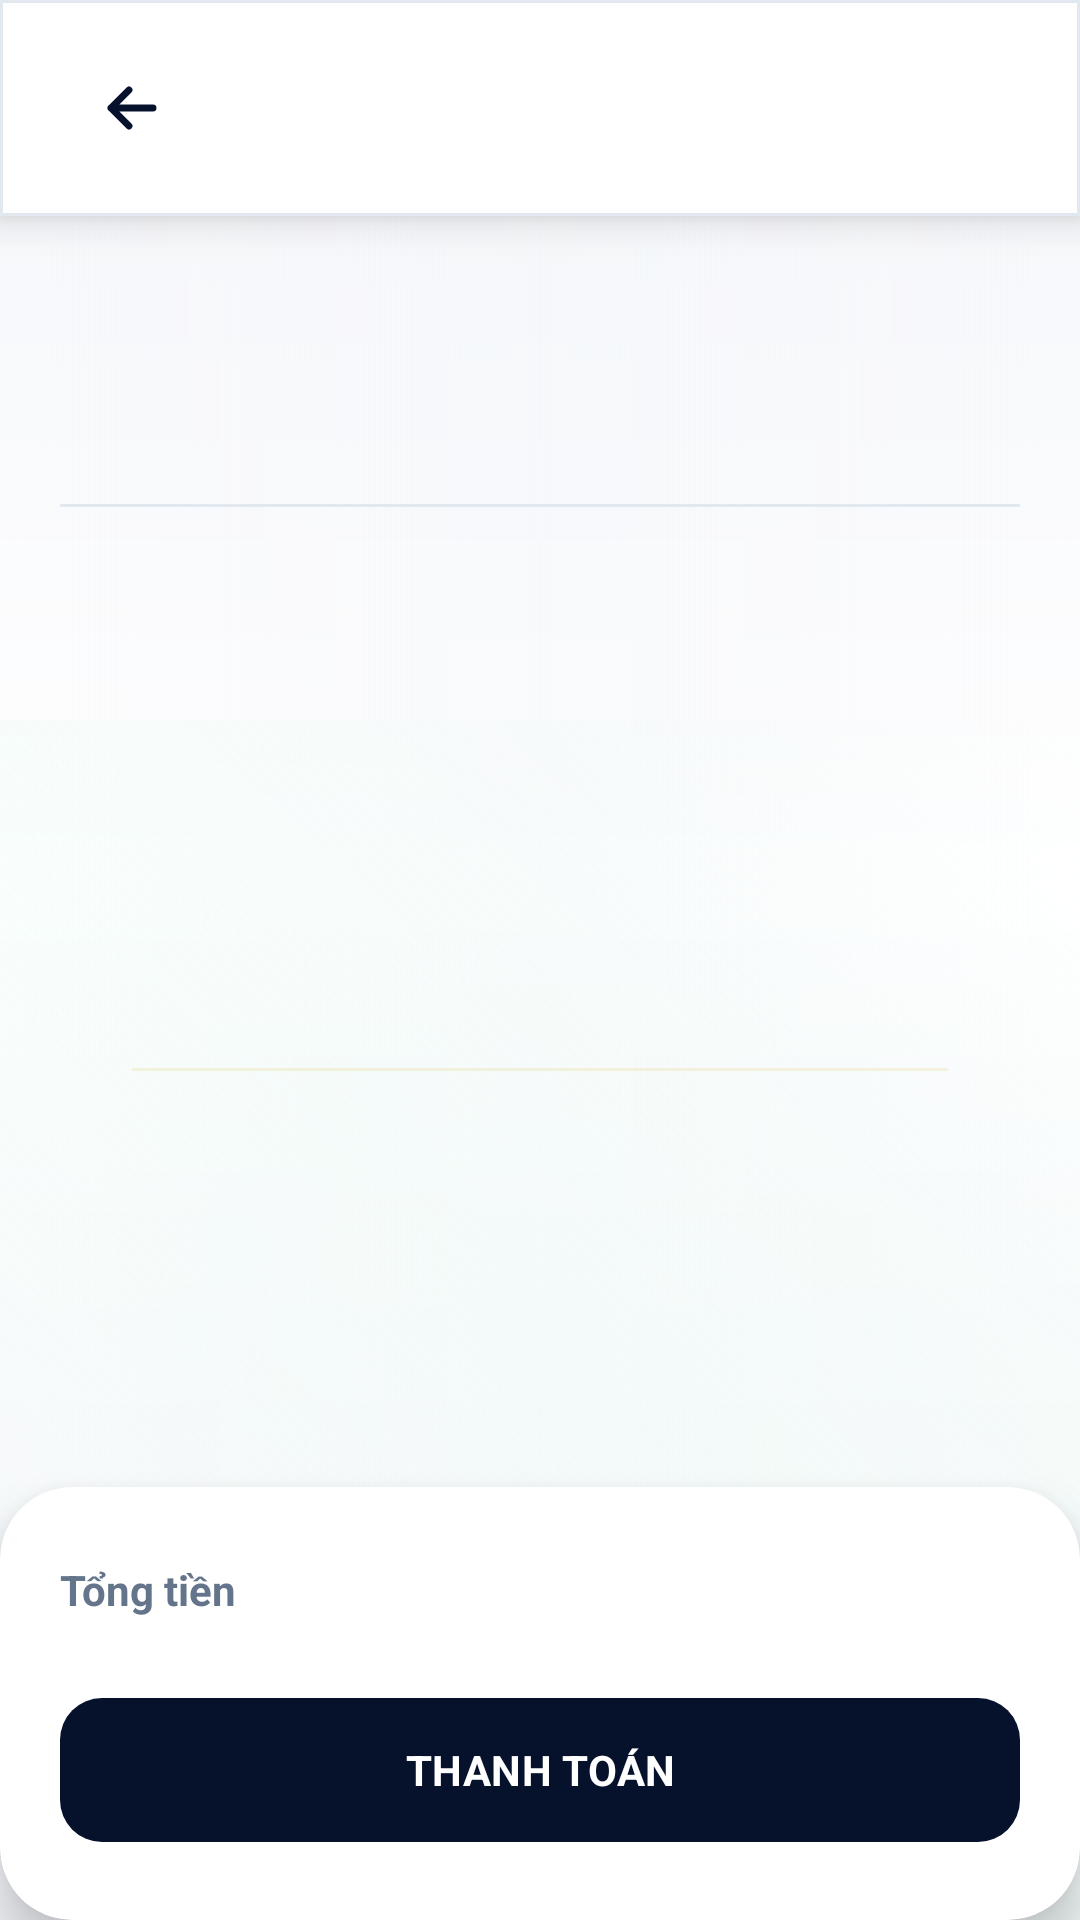

Where to tap for icons on this 1080px x 1920px app screen, as [x,y]:
Quay lại: [132,108]
